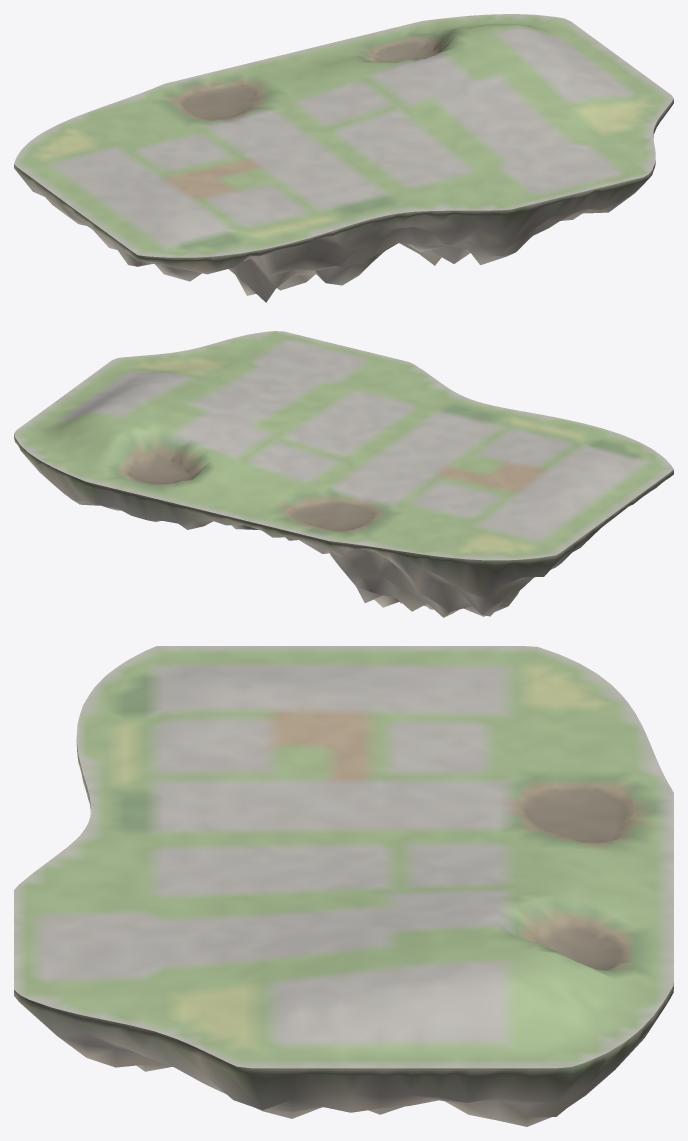
The model's file is SKY-038.rock.glb.
The picture shows the model from 3 angles, top to bottom: view 1: azimuth 30°, elevation 25°; view 2: azimuth 150°, elevation 25°; view 3: azimuth 270°, elevation 25°; orthographic projection. The views are drawn at different scales.
Visible parts, largest first — view 1: deck-col, rock; view 2: deck-col, rock; view 3: deck-col, rock.
Boxes of the visible parts, x1=… form: deck-col: x1=14, y1=14, x2=673, y2=257; rock: x1=14, y1=99, x2=673, y2=302; deck-col: x1=14, y1=331, x2=673, y2=560; rock: x1=14, y1=434, x2=673, y2=617; deck-col: x1=14, y1=646, x2=673, y2=1068; rock: x1=14, y1=740, x2=673, y2=1126.
Bounding box in the file's own units: 204 × 56.9 × 135.
